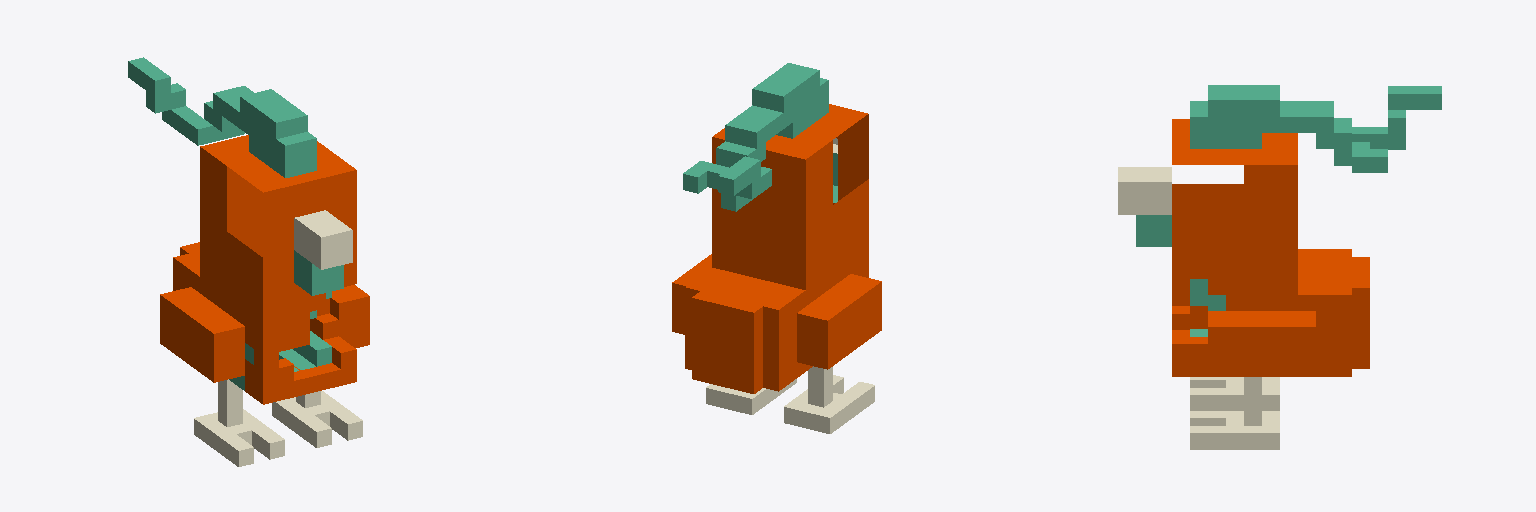
3 views of the same model, side by side, from view 1: azimuth 30°, elevation 25°; view 2: azimuth 150°, elevation 25°; view 3: azimuth 270°, elevation 25° (orthographic).
Bounding box in the file's own units: 10 × 20 × 18.
Materials: 1 (1 with a texture image).